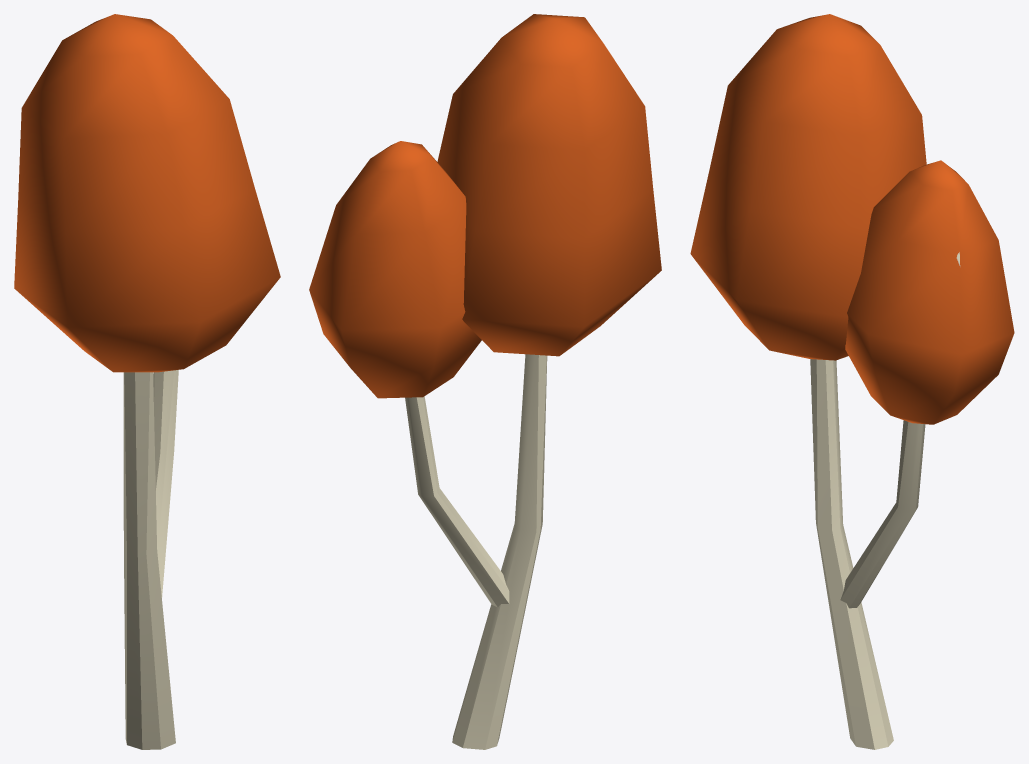
File: BirchTree_Red.fbx
3 views of the same model, side by side, from view 1: azimuth 30°, elevation 25°; view 2: azimuth 150°, elevation 25°; view 3: azimuth 270°, elevation 25° (orthographic). The views are drawn at different scales.
Visible parts, largest first — view 1: BirchTree_03; view 2: BirchTree_03; view 3: BirchTree_03.
Part boxes in pixels (x1=…): BirchTree_03: x1=14, y1=14, x2=280, y2=749; BirchTree_03: x1=309, y1=14, x2=661, y2=749; BirchTree_03: x1=690, y1=14, x2=1014, y2=749.
Size of the model in its own units: 2.71 by 7.35 by 3.09.
1 material, 1 textured.
